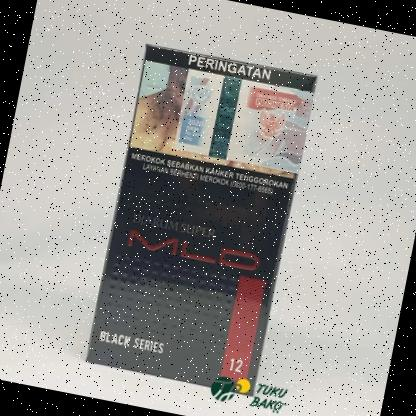bungkus rokok: (80, 33, 323, 398)
